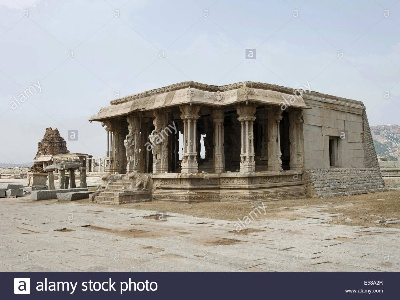mandapa: (97, 84, 310, 188)
